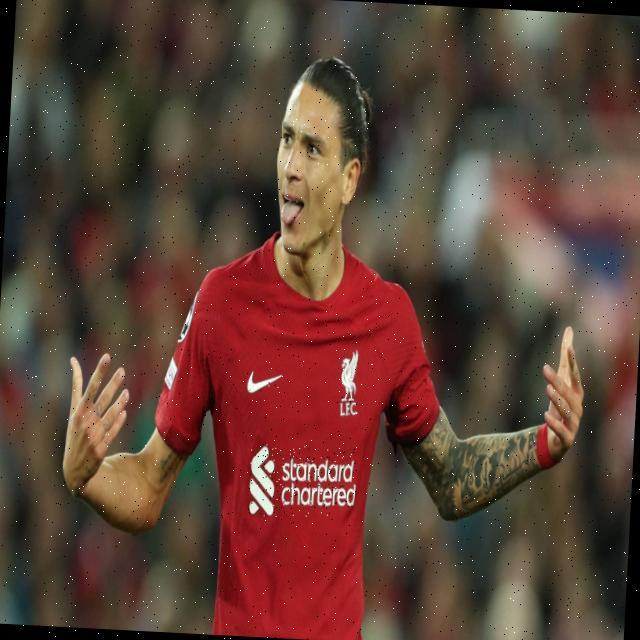Nike: (246, 370, 283, 395)
Standard Chartered: (248, 444, 359, 521)
